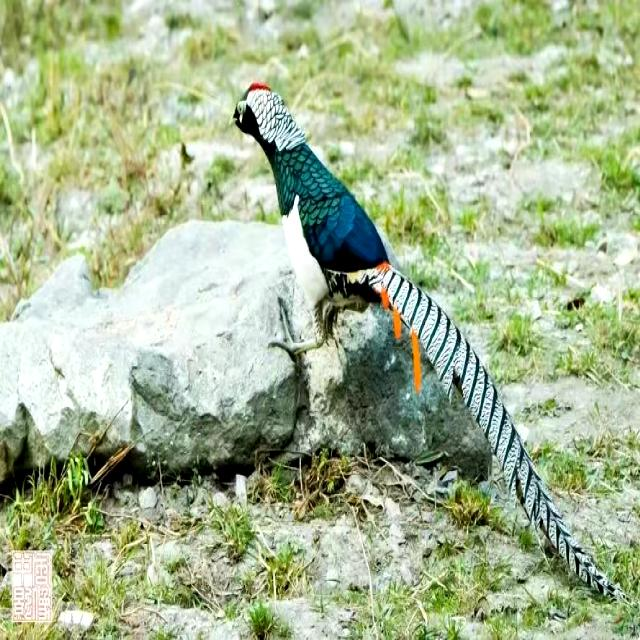Chrysolophus amherstiae: (370, 259, 623, 609)
